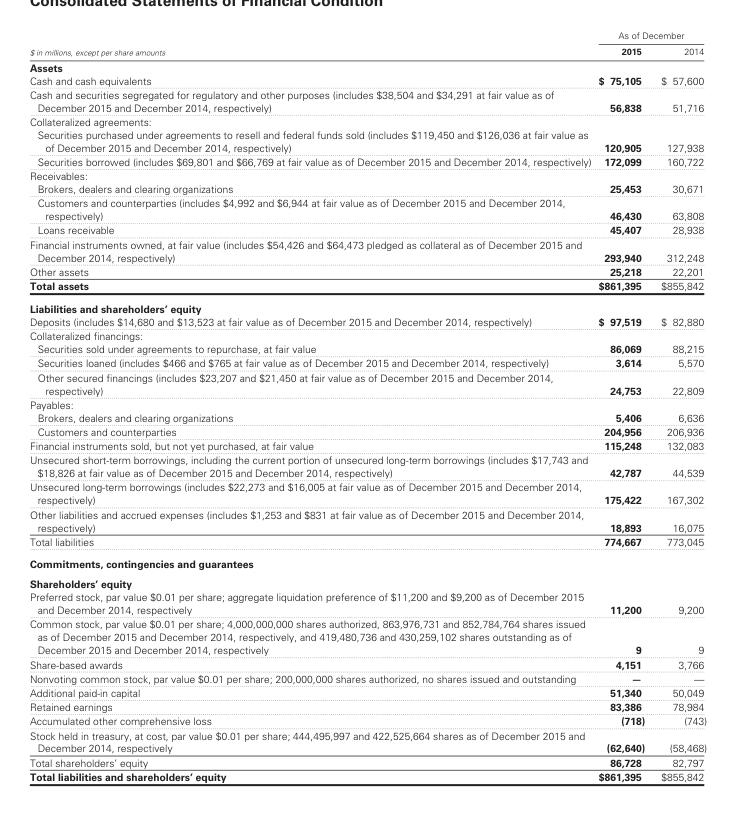table: (28, 29, 706, 782)
table column: (28, 29, 594, 782), (594, 29, 652, 782), (652, 29, 706, 782)
table column header: (28, 29, 706, 58)
table projected row header: (28, 552, 706, 573), (28, 297, 706, 315), (28, 573, 706, 590), (28, 58, 706, 73), (28, 328, 706, 342), (28, 114, 706, 127), (28, 168, 706, 181), (28, 397, 706, 410)
table row: (28, 616, 706, 656), (28, 86, 706, 114), (28, 369, 706, 397), (28, 506, 706, 534), (28, 127, 706, 154), (28, 195, 706, 222), (28, 236, 706, 263), (28, 452, 706, 479), (28, 479, 706, 506), (28, 727, 706, 754), (28, 590, 706, 616), (28, 552, 706, 573), (28, 278, 706, 297), (28, 297, 706, 315), (28, 534, 706, 552), (28, 573, 706, 590), (28, 42, 706, 58), (28, 58, 706, 73), (28, 263, 706, 278), (28, 670, 706, 685), (28, 754, 706, 769), (28, 154, 706, 168), (28, 181, 706, 195), (28, 222, 706, 236), (28, 328, 706, 342), (28, 355, 706, 369), (28, 410, 706, 424), (28, 424, 706, 438), (28, 438, 706, 452), (28, 656, 706, 670), (28, 685, 706, 699), (28, 699, 706, 713), (28, 713, 706, 727), (28, 29, 706, 42), (28, 73, 706, 86), (28, 114, 706, 127), (28, 168, 706, 181), (28, 315, 706, 328), (28, 342, 706, 355), (28, 397, 706, 410), (28, 769, 706, 782)
table spanning cell: (28, 29, 594, 58), (594, 29, 706, 42)
